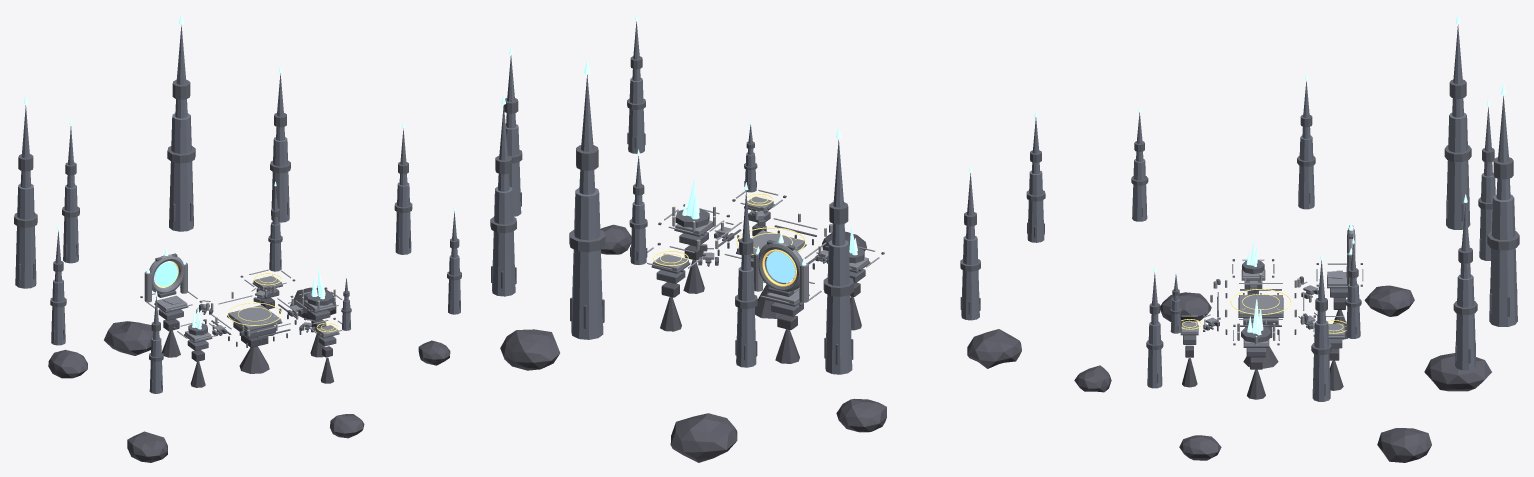
Rendered from aether-citadel.glb.
The picture shows the model from 3 angles, left to right: view 1: azimuth 30°, elevation 25°; view 2: azimuth 150°, elevation 25°; view 3: azimuth 270°, elevation 25°; orthographic projection. The views are drawn at different scales.
Visible parts, largest first — view 1: FarTower2Shaft, FarTower0Shaft, Cliff5, FarTower3Shaft, Cliff3, FarTower1Shaft, FarTower4Shaft, Cliff0, CentralDeck, FarTower5Shaft, Cliff4, FarTower6Shaft (+6 smaller); view 2: FarTower2Shaft, FarTower0Shaft, Cliff5, FarTower3Shaft, Cliff1, FarTower1Shaft, Cliff3, Cliff0, FarTower5Shaft, FarTower6Shaft, FarTower7Shaft, PortalArchOuter (+6 smaller); view 3: FarTower2Shaft, FarTower0Shaft, Cliff5, FarTower3Shaft, Cliff1, FarTower4Shaft, Cliff0, Cliff3, FarTower5Shaft, FarTower1Shaft, CentralDeck, Cliff2 (+4 smaller).
Boxes of the visible parts, x1=… form: FarTower2Shaft: x1=169, y1=113, x2=193, y2=231; FarTower0Shaft: x1=15, y1=183, x2=36, y2=288; Cliff5: x1=104, y1=321, x2=153, y2=355; FarTower3Shaft: x1=271, y1=137, x2=289, y2=222; Cliff3: x1=127, y1=431, x2=167, y2=462; FarTower1Shaft: x1=63, y1=184, x2=78, y2=263; FarTower4Shaft: x1=395, y1=182, x2=411, y2=254; Cliff0: x1=48, y1=349, x2=87, y2=378; CentralDeck: x1=228, y1=305, x2=281, y2=329; FarTower5Shaft: x1=51, y1=279, x2=65, y2=345; Cliff4: x1=330, y1=414, x2=364, y2=438; FarTower6Shaft: x1=448, y1=255, x2=460, y2=314; FarTower2Shaft: x1=571, y1=188, x2=603, y2=339; FarTower0Shaft: x1=825, y1=240, x2=852, y2=374; Cliff5: x1=670, y1=413, x2=737, y2=462; FarTower3Shaft: x1=492, y1=186, x2=515, y2=296; Cliff1: x1=500, y1=329, x2=559, y2=370; FarTower1Shaft: x1=736, y1=267, x2=756, y2=367; Cliff3: x1=967, y1=329, x2=1021, y2=368; Cliff0: x1=836, y1=398, x2=886, y2=432; FarTower5Shaft: x1=961, y1=236, x2=979, y2=320; FarTower6Shaft: x1=628, y1=78, x2=644, y2=153; FarTower7Shaft: x1=1027, y1=170, x2=1044, y2=242; PortalArchOuter: x1=758, y1=241, x2=802, y2=291; FarTower2Shaft: x1=1489, y1=194, x2=1517, y2=326; FarTower0Shaft: x1=1446, y1=112, x2=1470, y2=229; Cliff5: x1=1424, y1=353, x2=1491, y2=391; FarTower3Shaft: x1=1455, y1=274, x2=1476, y2=370; Cliff1: x1=1377, y1=428, x2=1431, y2=462; FarTower4Shaft: x1=1312, y1=320, x2=1330, y2=401; Cliff0: x1=1364, y1=285, x2=1414, y2=316; Cliff3: x1=1160, y1=292, x2=1211, y2=322; FarTower5Shaft: x1=1298, y1=135, x2=1314, y2=209; FarTower1Shaft: x1=1479, y1=173, x2=1495, y2=260; CentralDeck: x1=1239, y1=295, x2=1282, y2=316; Cliff2: x1=1179, y1=435, x2=1221, y2=460.
Size of the model in its own units: 62.45 by 50.03 by 58.76.
